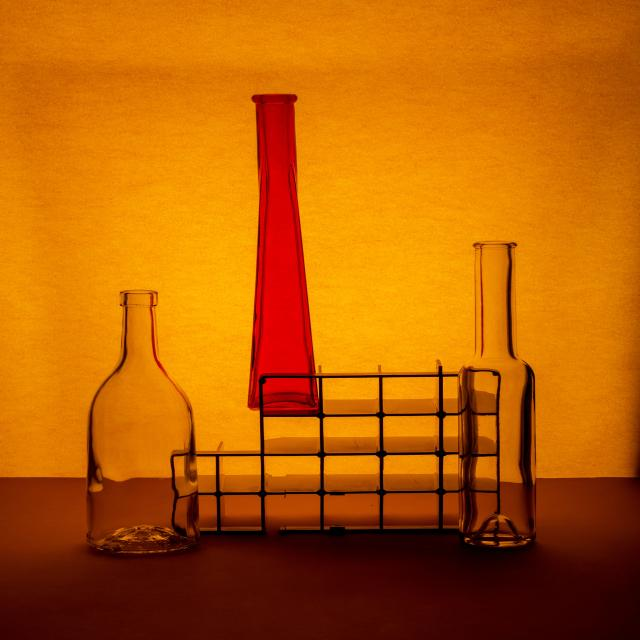Bottle: (87, 291, 199, 553), (459, 242, 535, 547), (249, 95, 314, 409)
